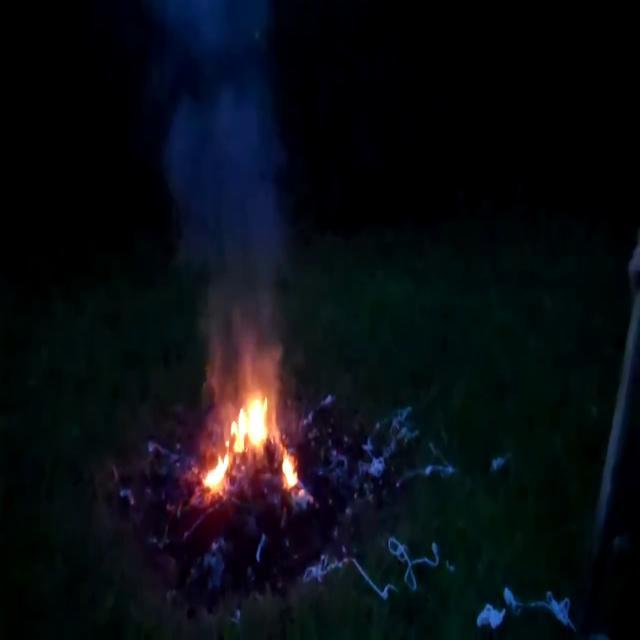Fire: (198, 373, 296, 498)
Smoke: (161, 4, 297, 376)
